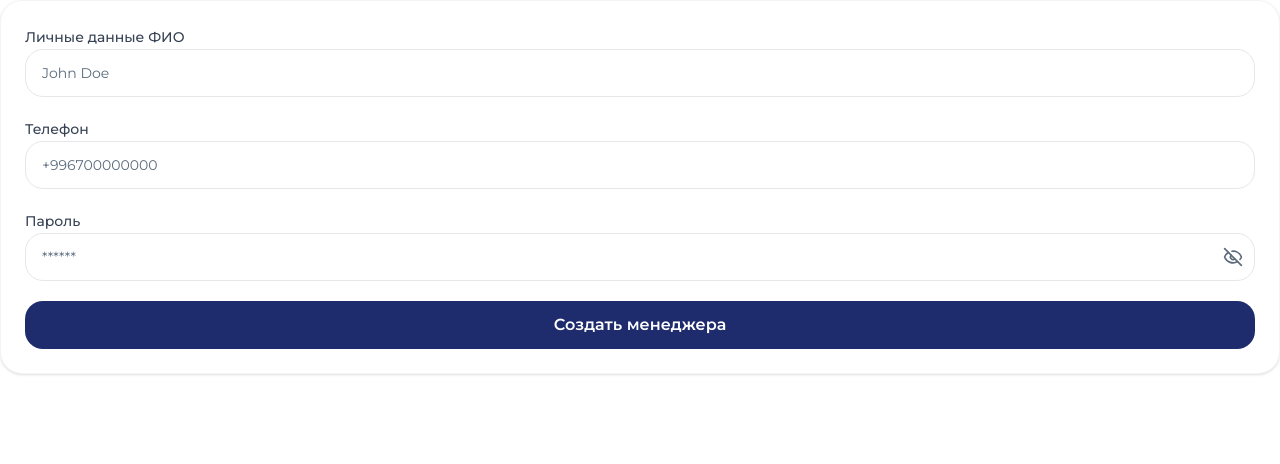
it: CreateManagerForm › проверяет минимальную длину пароля
The width and height of the screenshot is (1280, 464).
Type "123" into the password field labelled "Пароль".
click(640, 257); type("123")  # box top-left (25, 233), bottom-right (1255, 281)
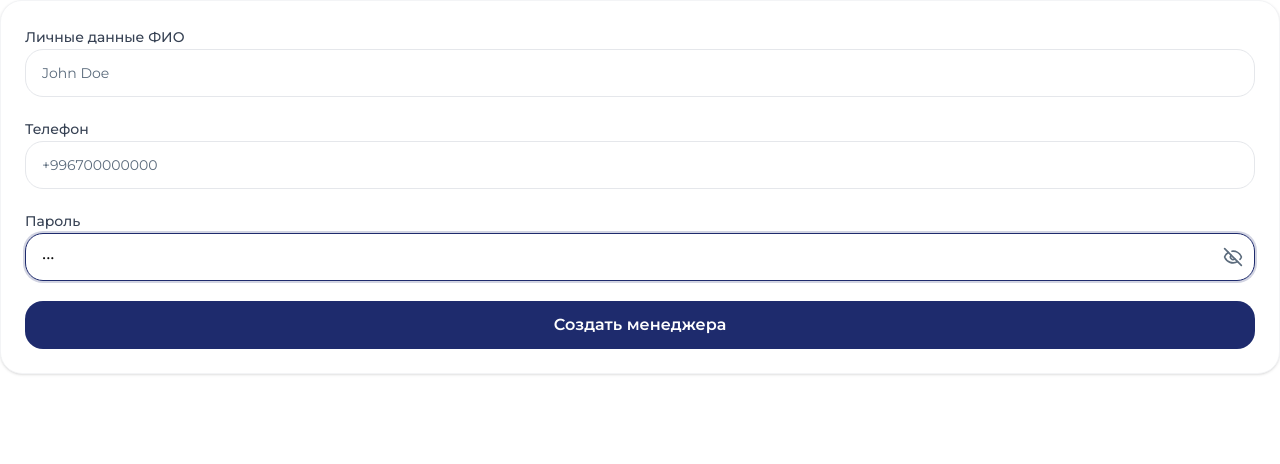
Click the button "Создать менеджера".
click(640, 325)  # box top-left (25, 301), bottom-right (1255, 349)
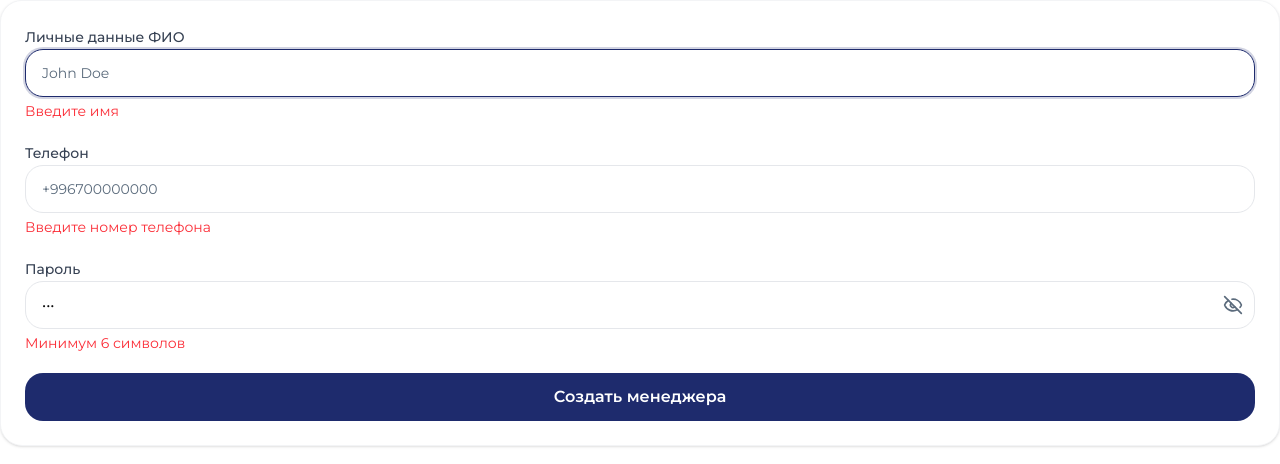
Result: the text "Минимум 6 символов" is shown at top-left (25, 334), bottom-right (185, 352)
